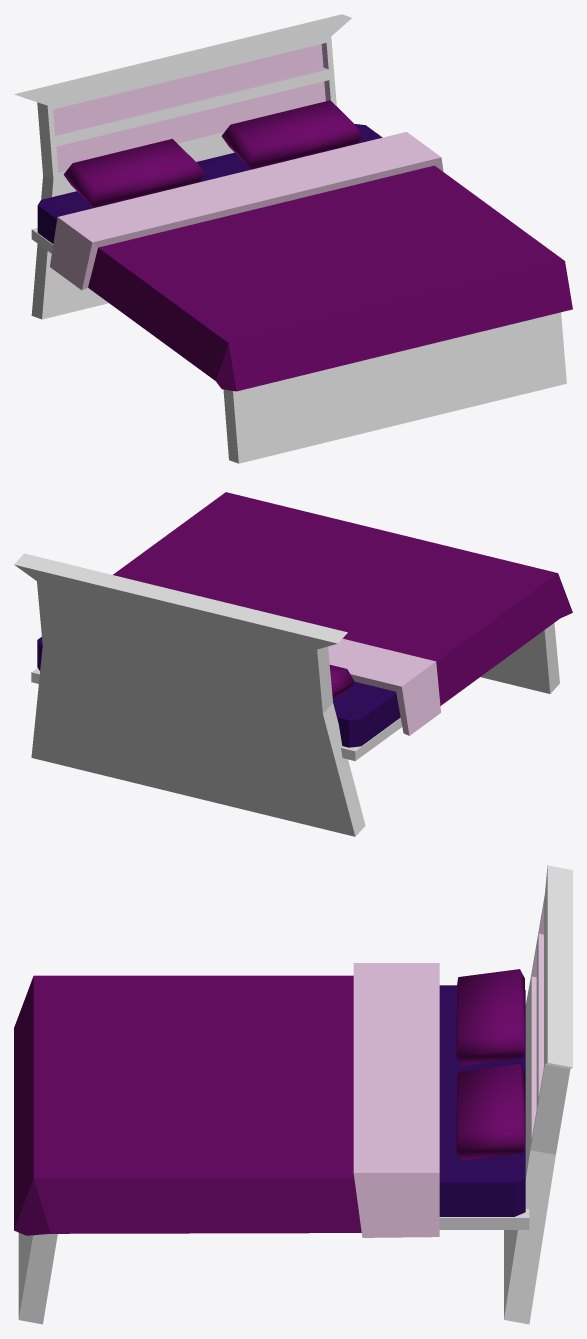
The model's file is LitDouble2.fbx.
The picture shows the model from 3 angles, top to bottom: view 1: azimuth 30°, elevation 25°; view 2: azimuth 150°, elevation 25°; view 3: azimuth 270°, elevation 25°; orthographic projection. The views are drawn at different scales.
Visible parts, largest first — view 1: Plane.001; view 2: Plane.001; view 3: Plane.001.
Part boxes in pixels (x1=…): Plane.001: x1=14, y1=14, x2=572, y2=463; Plane.001: x1=14, y1=492, x2=572, y2=836; Plane.001: x1=14, y1=865, x2=572, y2=1324.
Size of the model in its own units: 541 by 300 by 580.
